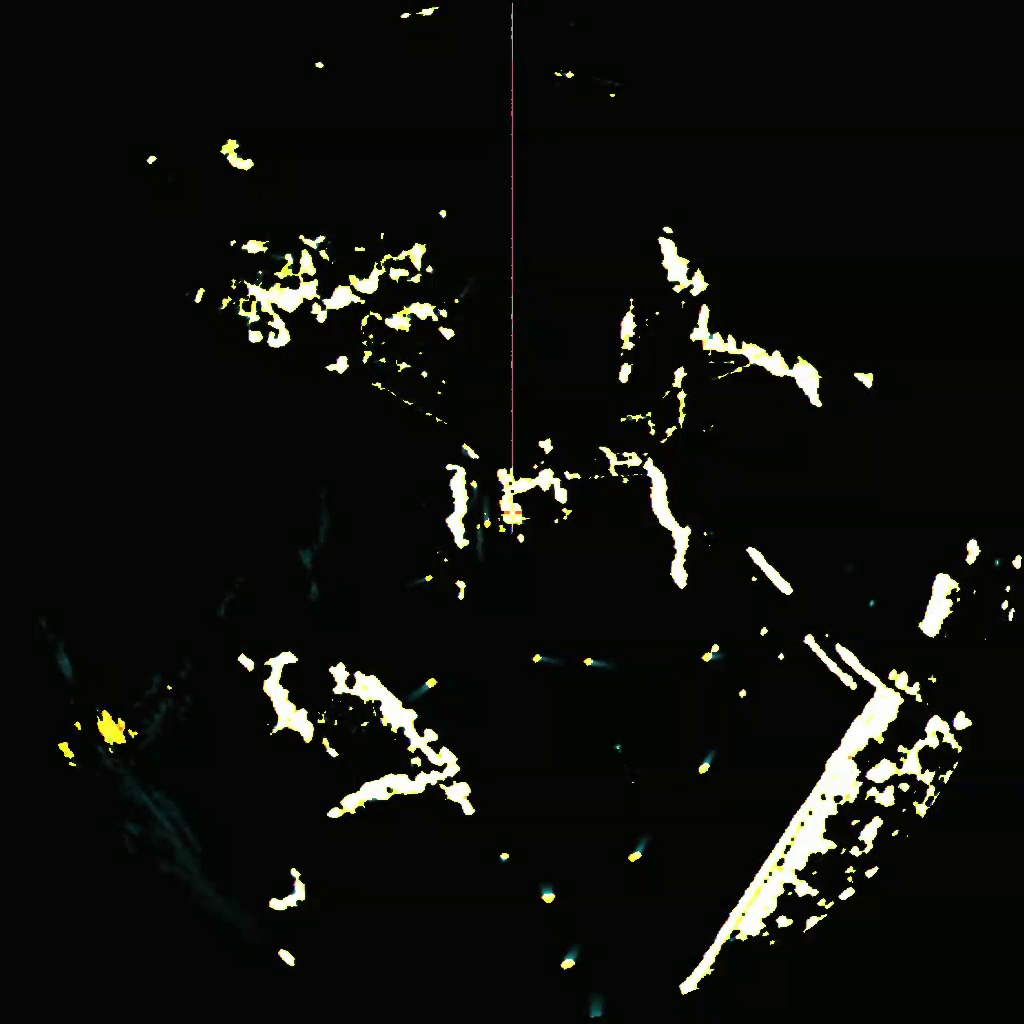B: (408, 677, 440, 702), (624, 838, 651, 861), (695, 749, 717, 772), (557, 948, 580, 969), (582, 655, 614, 669), (528, 652, 559, 666), (539, 886, 559, 904), (473, 523, 483, 558), (411, 572, 432, 587), (589, 998, 604, 1018), (468, 478, 480, 498), (482, 503, 491, 529), (699, 652, 725, 661)
